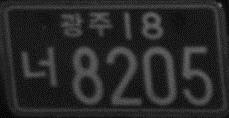0: (143, 44, 176, 105)
1: (122, 10, 133, 41)
2: (105, 44, 142, 107)
5: (180, 45, 212, 108)
8: (71, 44, 104, 107), (141, 10, 164, 39)
광주_O: (58, 11, 114, 37)
너: (20, 44, 59, 87)
